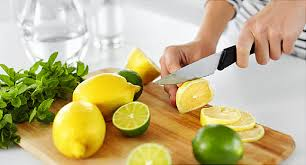Lemon: (71, 71, 159, 114), (43, 100, 109, 156)
